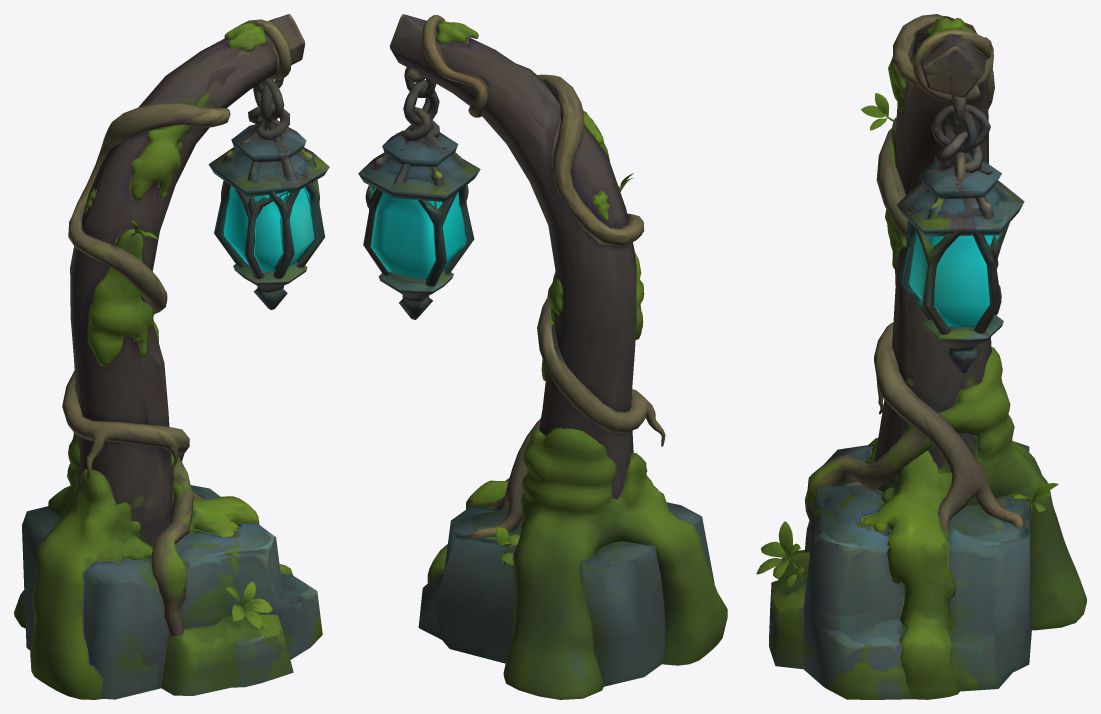
The model's file is Lantern.fbx.
3 views of the same model, side by side, from view 1: azimuth 30°, elevation 25°; view 2: azimuth 150°, elevation 25°; view 3: azimuth 270°, elevation 25° (orthographic). The views are drawn at different scales.
Parts seen in each view (by area): view 1: Lantern; view 2: Lantern; view 3: Lantern.
Boxes of the visible parts, bbox=[...] form: Lantern: bbox=[14, 14, 329, 699]; Lantern: bbox=[358, 14, 727, 699]; Lantern: bbox=[756, 14, 1086, 699].
Bounding box in the file's own units: 1.74 × 3.2 × 1.45.
